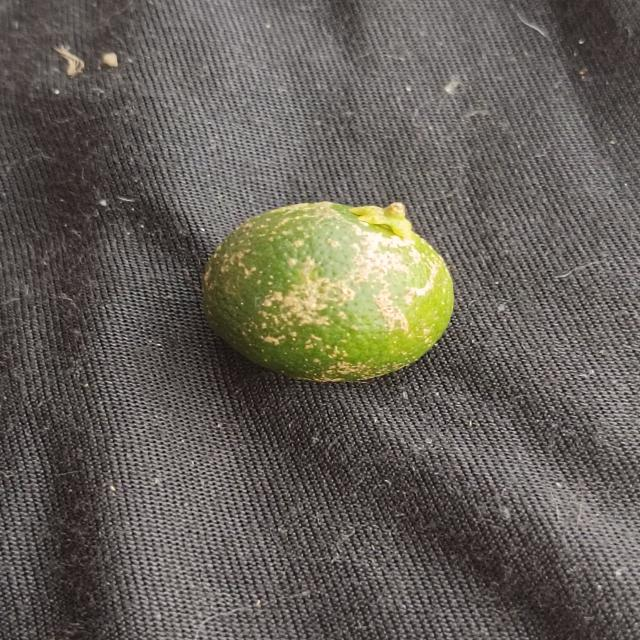scab: (198, 197, 467, 384)
